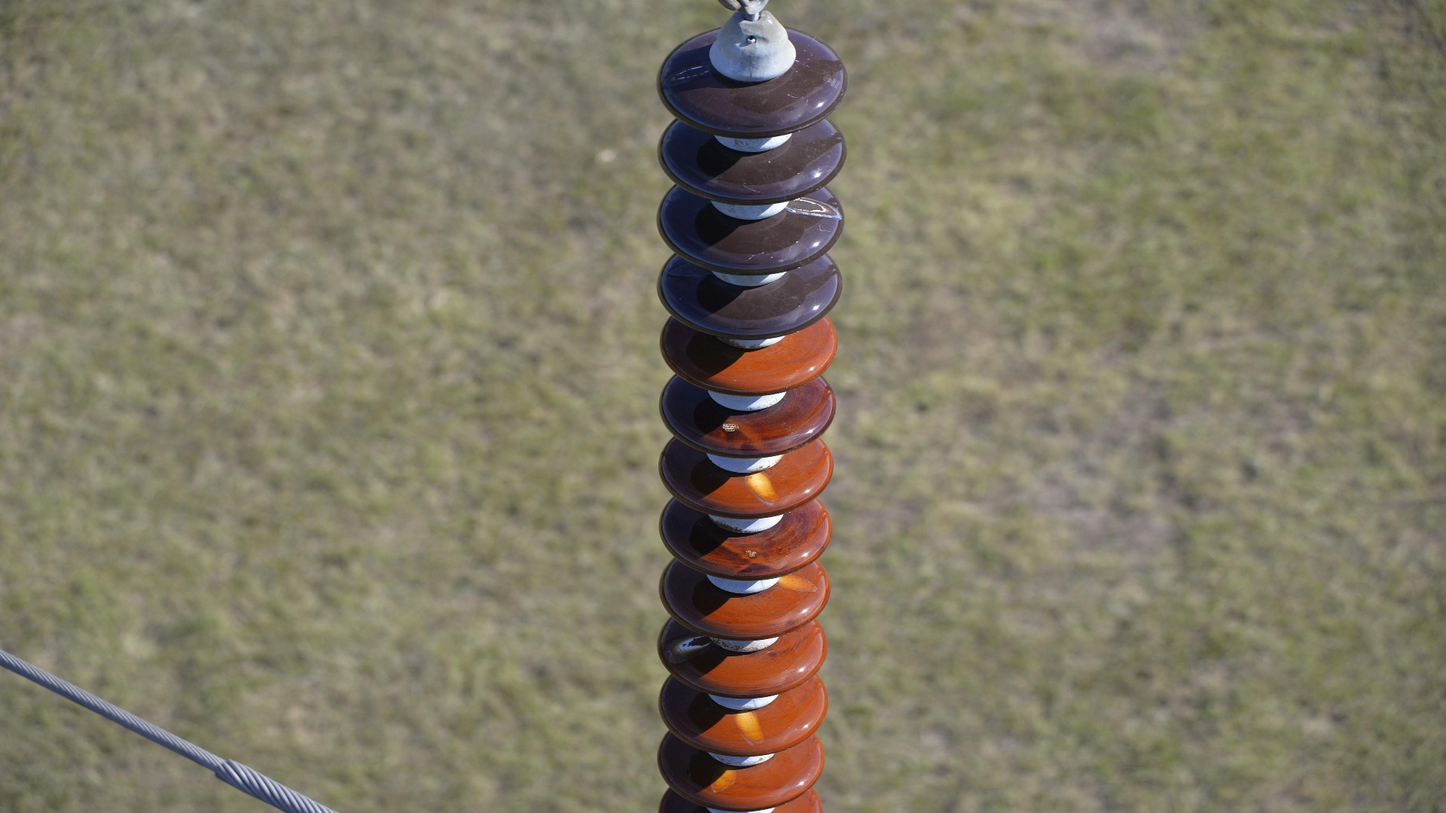insulator: (650, 24, 854, 813)
